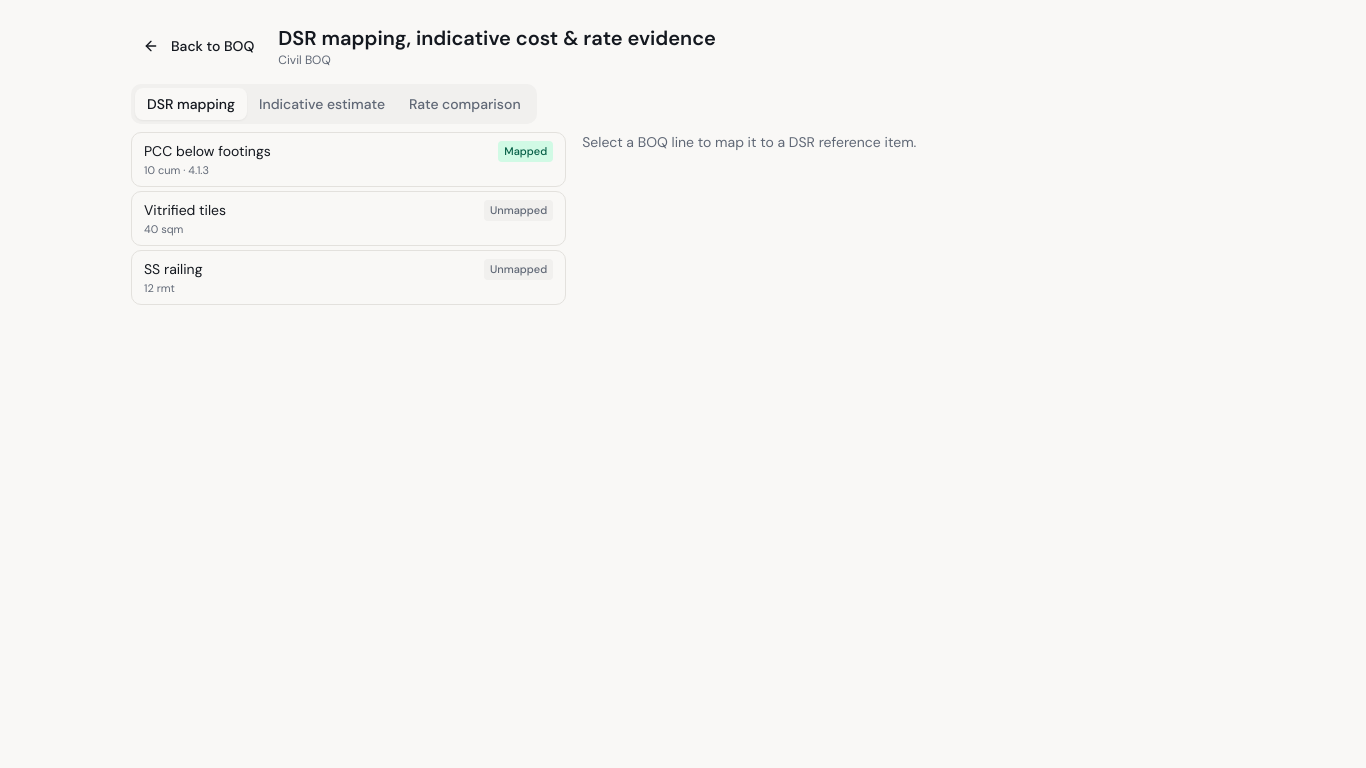
Test: BoqDsrMapping — indicative estimate › prices from the saved snapshot, not the current reference table
Press the mouse on the tab "Indicative estimate" at (322, 104), box [247,88,397,120]
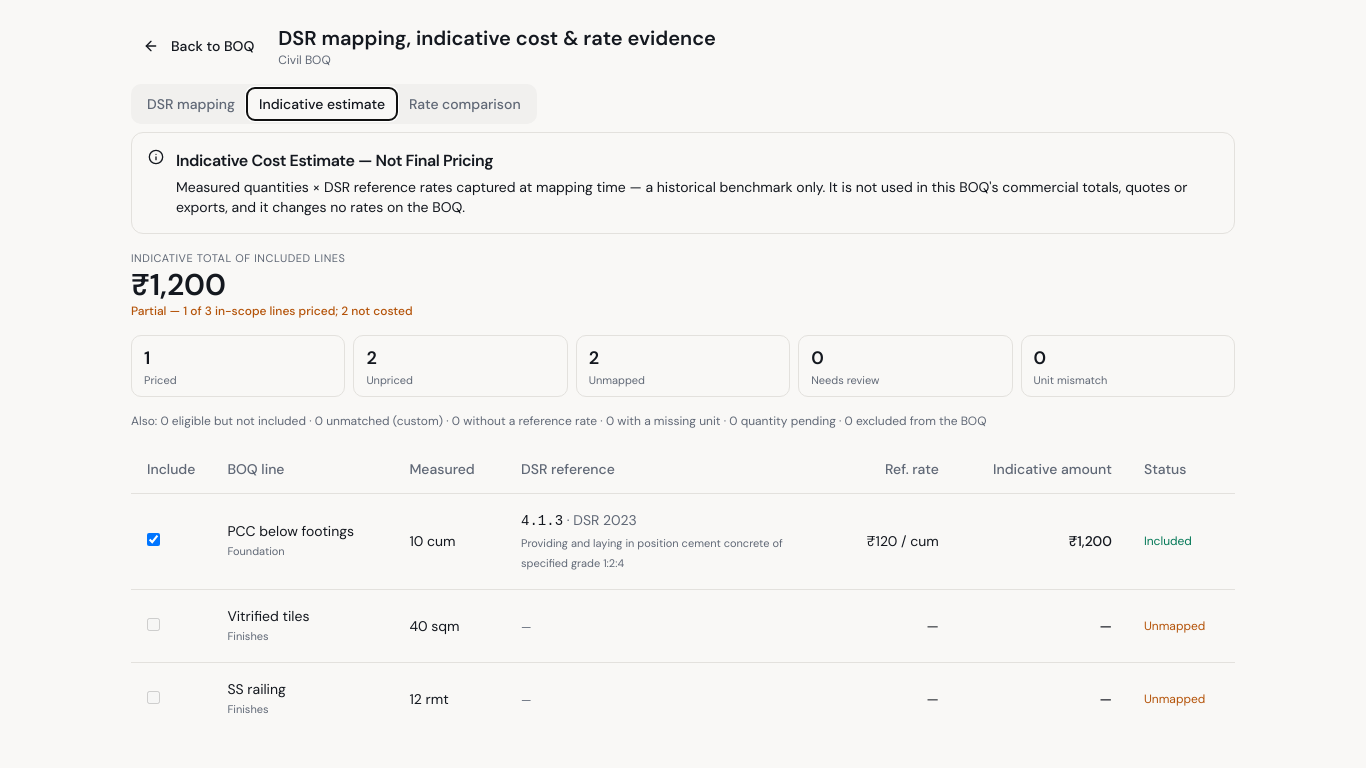
expect the heading "Indicative Cost Estimate — Not Final Pricing" is shown: met, box [176,150,493,171]
expect the text with test id "indicative-total" reads "₹1,200": met, box [131,264,226,304]
